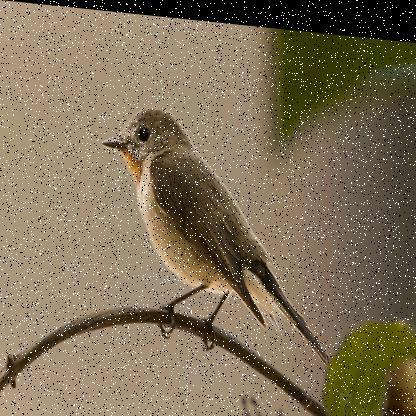Burung: (97, 88, 327, 353)
